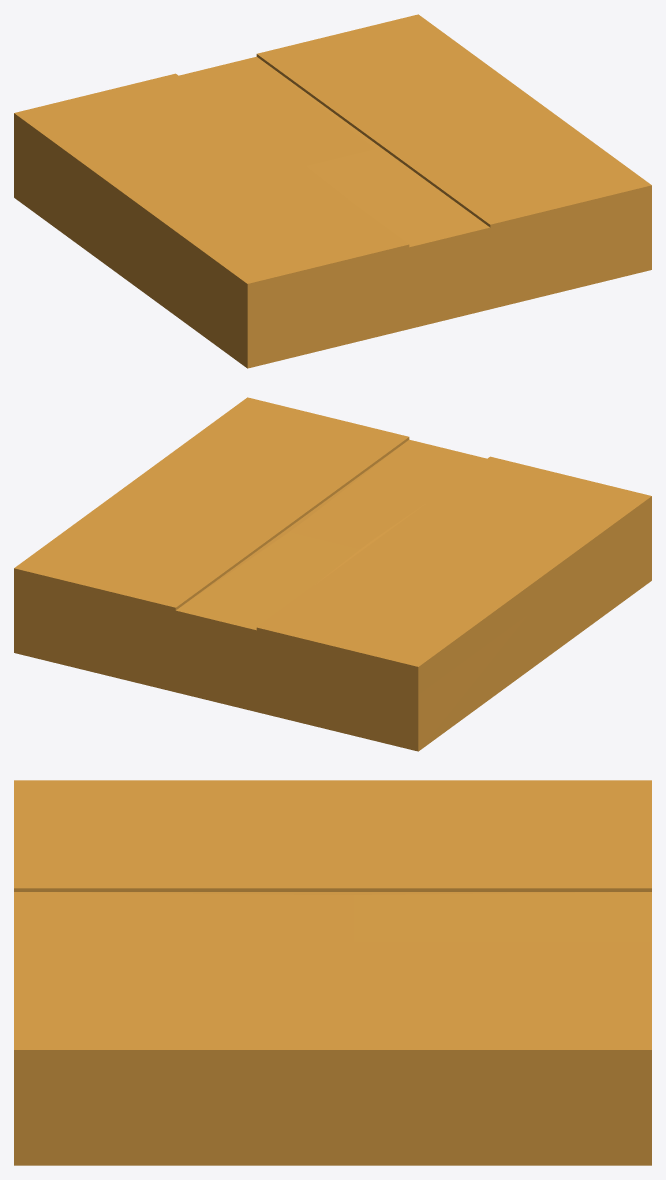
The model's file is tile-road-straight-crosswalk.glb.
3 views of the same model, one above another, from view 1: azimuth 30°, elevation 25°; view 2: azimuth 150°, elevation 25°; view 3: azimuth 270°, elevation 25° (orthographic). The views are drawn at different scales.
Visible parts, largest first — view 1: tile-road-straight-crosswalk; view 2: tile-road-straight-crosswalk; view 3: tile-road-straight-crosswalk.
Boxes of the visible parts, x1,y1,x2,y2 form: tile-road-straight-crosswalk: [14, 14, 651, 368]; tile-road-straight-crosswalk: [14, 397, 651, 751]; tile-road-straight-crosswalk: [14, 780, 651, 1165].
Size of the model in its own units: 30 by 6 by 30.
